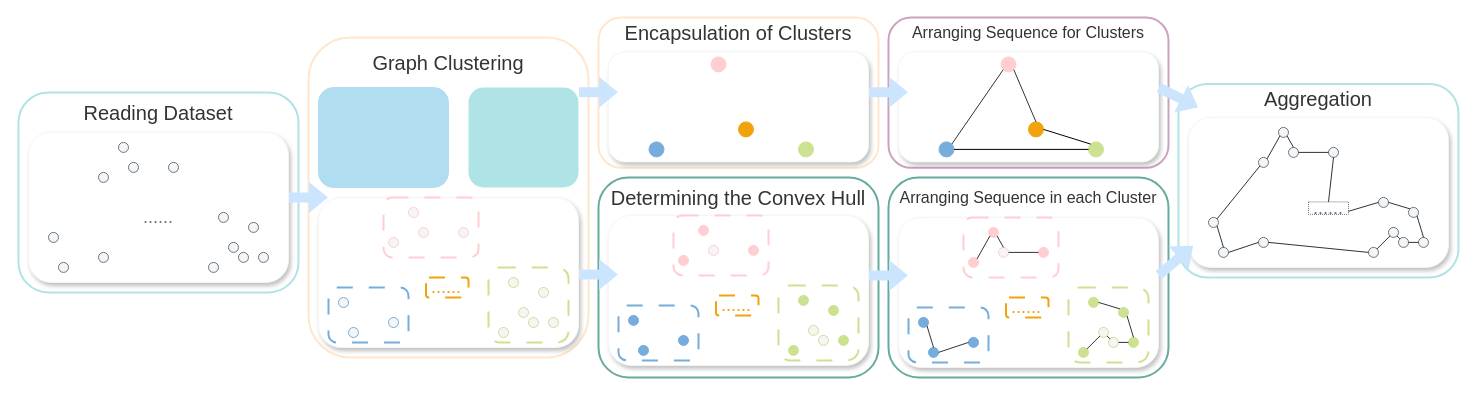
The diagram is 1476 pixels wide and 396 high, and some of its shapes have lost their labels. Each missing label, with the centre of its shape:
Q-means: the point at 523,137
Quantum Graph Normalized Cut: the point at 383,137
